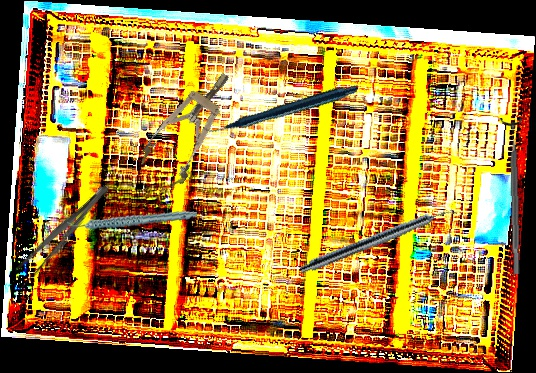Dressing Forceps: (6, 179, 115, 293)
Fixation Ring: (498, 117, 529, 275)
Handpiece: (202, 40, 359, 176), (298, 202, 458, 279), (66, 192, 198, 245)
Speculum: (134, 60, 249, 192)
